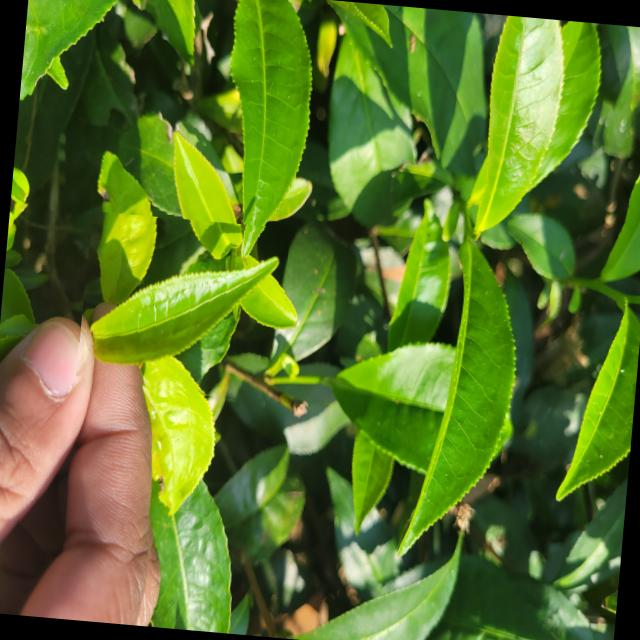Catagory A(1-2 days): (73, 210, 289, 406)
